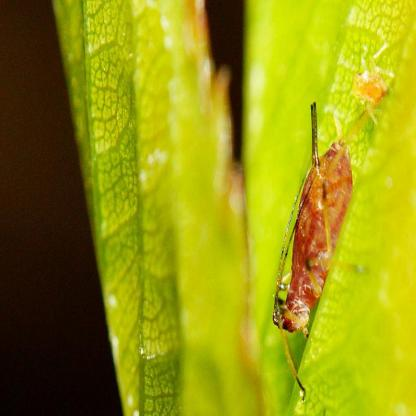aphid: (263, 99, 355, 398), (344, 36, 397, 121)
